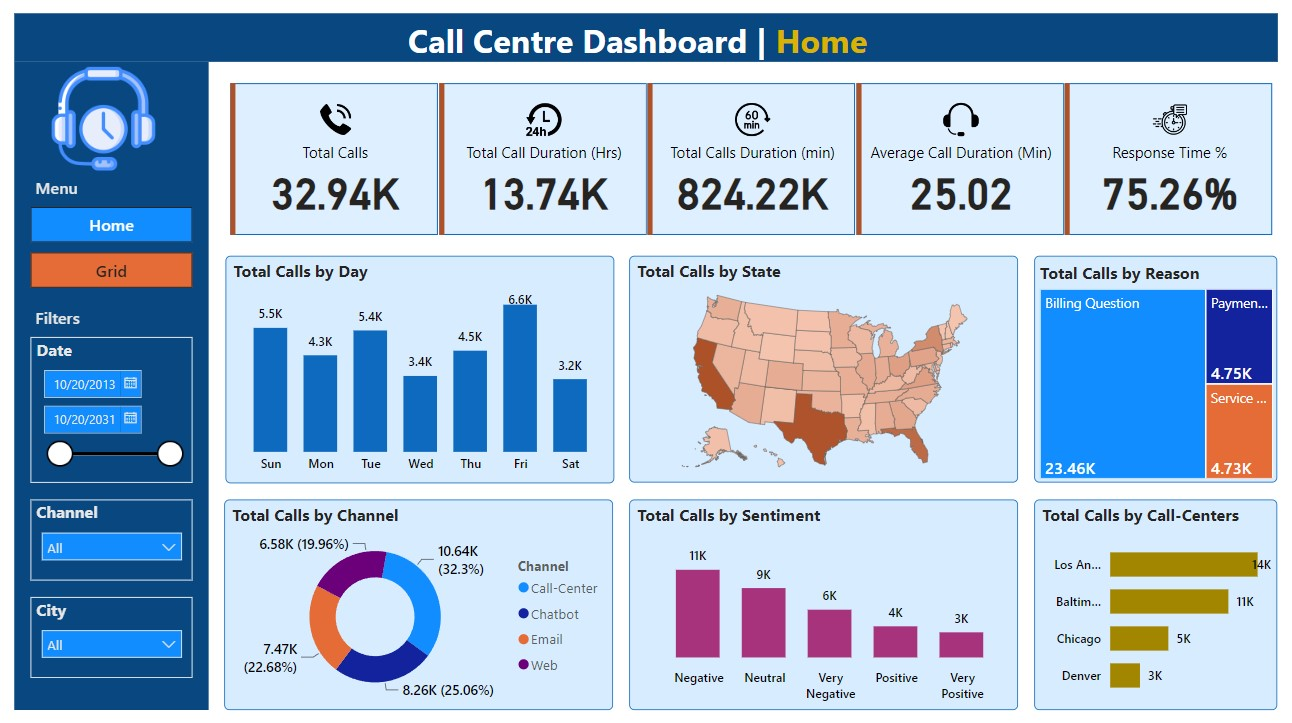

This screenshot's page, from the dashboard's own definition file:
{"tool":"powerbi","page":{"name":"Home","canvas":[1280,720],"ordinal":0},"visuals":[{"type":"shape","box":[16,16,1248,48],"z":0},{"type":"shape","box":[16,64,192,640],"z":1000},{"type":"cardVisual","fields":{"Data":["Call Center_Call Center.Total Calls","Call Center_Call Center.Total Call Duration (Hrs)","Call Center_Call Center.Total Calls Duration (min)","Call Center_Call Center.Average Call Duration (Min)","Call Center_Call Center.Response Time %"]},"box":[224.1,80.5,1040.2,160],"z":2000},{"type":"textbox","box":[400,16,512,64],"z":3000},{"type":"columnChart","title":"Total Calls by Day","fields":{"Category":["Date Table.Day"],"Y":["Call Center_Call Center.Total Calls"]},"box":[224.7,255.6,384,224.7],"z":4000},{"type":"shapeMap","fields":{"Category":["Call Center_Call Center.State"],"Value":["Call Center_Call Center.Total Calls"]},"box":[624,256,384,224],"z":5000},{"type":"treemap","fields":{"Group":["Call Center_Call Center.Reason"],"Values":["Call Center_Call Center.Total Calls"]},"box":[1024,256,240,224],"z":6000},{"type":"donutChart","fields":{"Category":["Call Center_Call Center.Channel"],"Y":["Call Center_Call Center.Total Calls"]},"box":[224,496,384,208],"z":7000},{"type":"columnChart","fields":{"Y":["Call Center_Call Center.Total Calls"],"Category":["Call Center_Call Center.Sentiment"]},"box":[624,496,384,208],"z":8000},{"type":"barChart","fields":{"Category":["Call Center_Call Center.Call-Centres City"],"Y":["Call Center_Call Center.Total Calls"]},"box":[1024,496,240,208],"z":9000},{"type":"slicer","title":"Date","fields":{"Values":["Date Table.Date"]},"box":[32,336,160,144],"z":10000},{"type":"slicer","title":"Channel","fields":{"Values":["Call Center_Call Center.Channel"]},"box":[32,496,160,80],"z":11000},{"type":"slicer","title":"City","fields":{"Values":["Call Center_Call Center.City"]},"box":[32,592,160,80],"z":12000},{"type":"image","box":[48,64,112,112],"z":12001},{"type":"pageNavigator","box":[32,208,160,80],"z":12002},{"type":"textbox","title":"Menu","box":[32.6,176.1,63.9,31.4],"z":12003},{"type":"textbox","title":"Filters","box":[32.6,305.1,63.9,31.4],"z":12004}]}

Visuals, with their boxes in screenshot pixels (x1, y1, x2, y2), scaled from the page's 1280x720 canvas onto the 1292x723 screenshot:
shape: region(16, 16, 1276, 64)
shape: region(16, 64, 210, 707)
cardVisual - Call Center_Call Center.Total Calls x Call Center_Call Center.Total Call Duration (Hrs): region(226, 81, 1276, 242)
textbox: region(404, 16, 921, 80)
"Total Calls by Day" columnChart: region(227, 257, 614, 482)
shapeMap - Call Center_Call Center.State x Call Center_Call Center.Total Calls: region(630, 257, 1017, 482)
treemap - Call Center_Call Center.Reason x Call Center_Call Center.Total Calls: region(1034, 257, 1276, 482)
donutChart - Call Center_Call Center.Channel x Call Center_Call Center.Total Calls: region(226, 498, 614, 707)
columnChart - Call Center_Call Center.Total Calls x Call Center_Call Center.Sentiment: region(630, 498, 1017, 707)
barChart - Call Center_Call Center.Call-Centres City x Call Center_Call Center.Total Calls: region(1034, 498, 1276, 707)
"Date" slicer: region(32, 337, 194, 482)
"Channel" slicer: region(32, 498, 194, 578)
"City" slicer: region(32, 594, 194, 675)
image: region(48, 64, 162, 177)
pageNavigator: region(32, 209, 194, 289)
"Menu" textbox: region(33, 177, 97, 208)
"Filters" textbox: region(33, 306, 97, 338)
